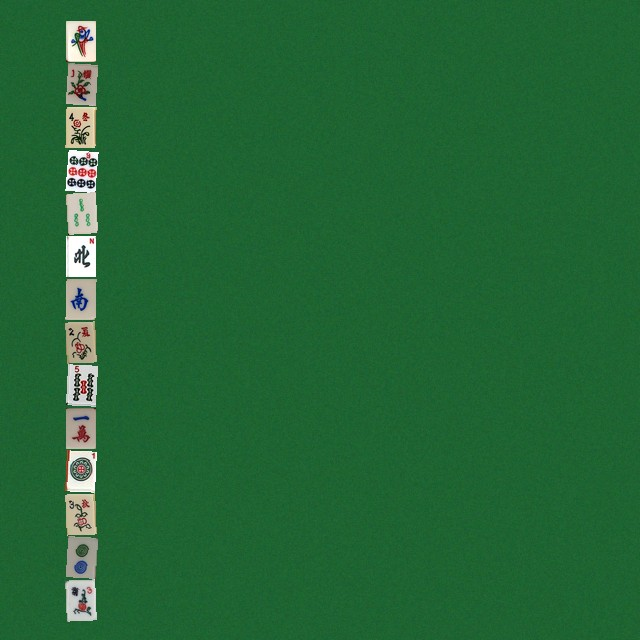tile: (65, 20, 95, 61), (65, 63, 95, 104), (65, 106, 95, 147), (65, 149, 95, 190), (65, 192, 95, 233), (65, 235, 95, 276), (65, 278, 95, 319), (65, 321, 95, 362), (65, 364, 95, 405), (65, 407, 95, 448), (65, 450, 95, 491), (65, 493, 95, 534), (65, 536, 95, 577), (65, 579, 95, 620)
